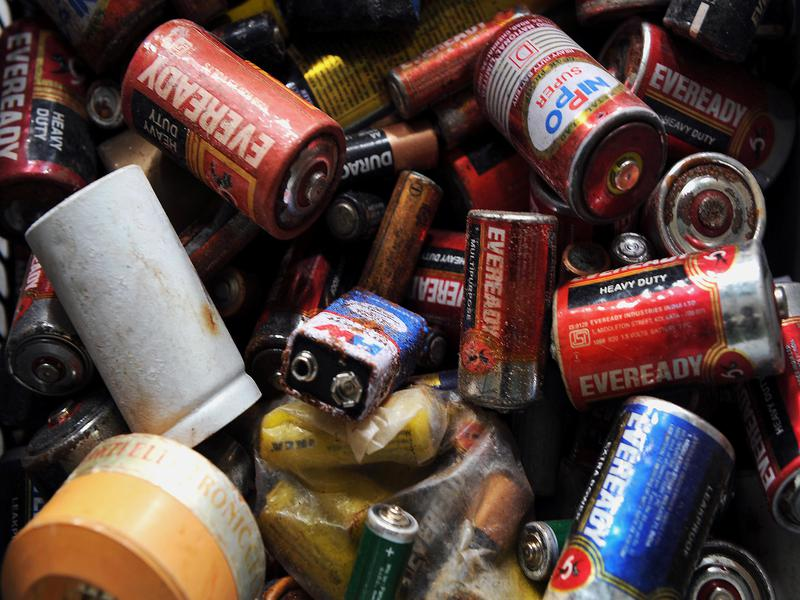battery: (107, 17, 352, 246), (451, 11, 673, 229), (536, 388, 741, 600), (547, 239, 795, 411), (444, 199, 558, 425), (273, 284, 437, 422), (354, 165, 443, 315), (317, 498, 440, 600)
